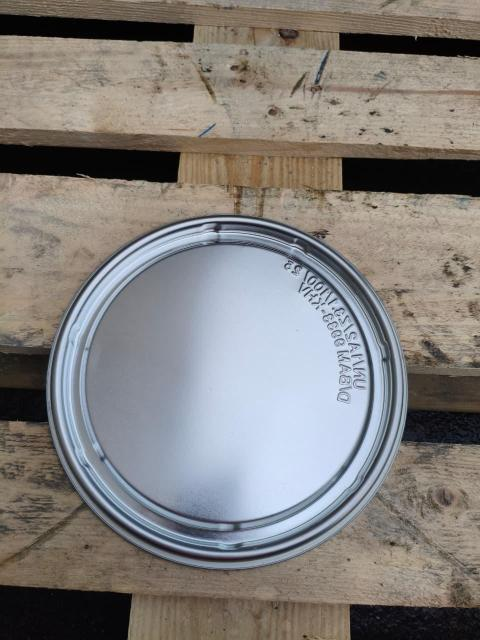Metal: (43, 213, 412, 562)
